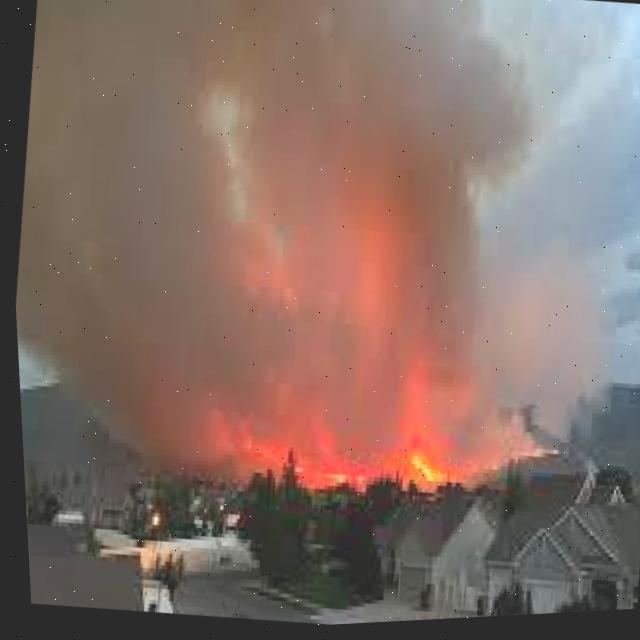smoke: (12, 0, 640, 483)
